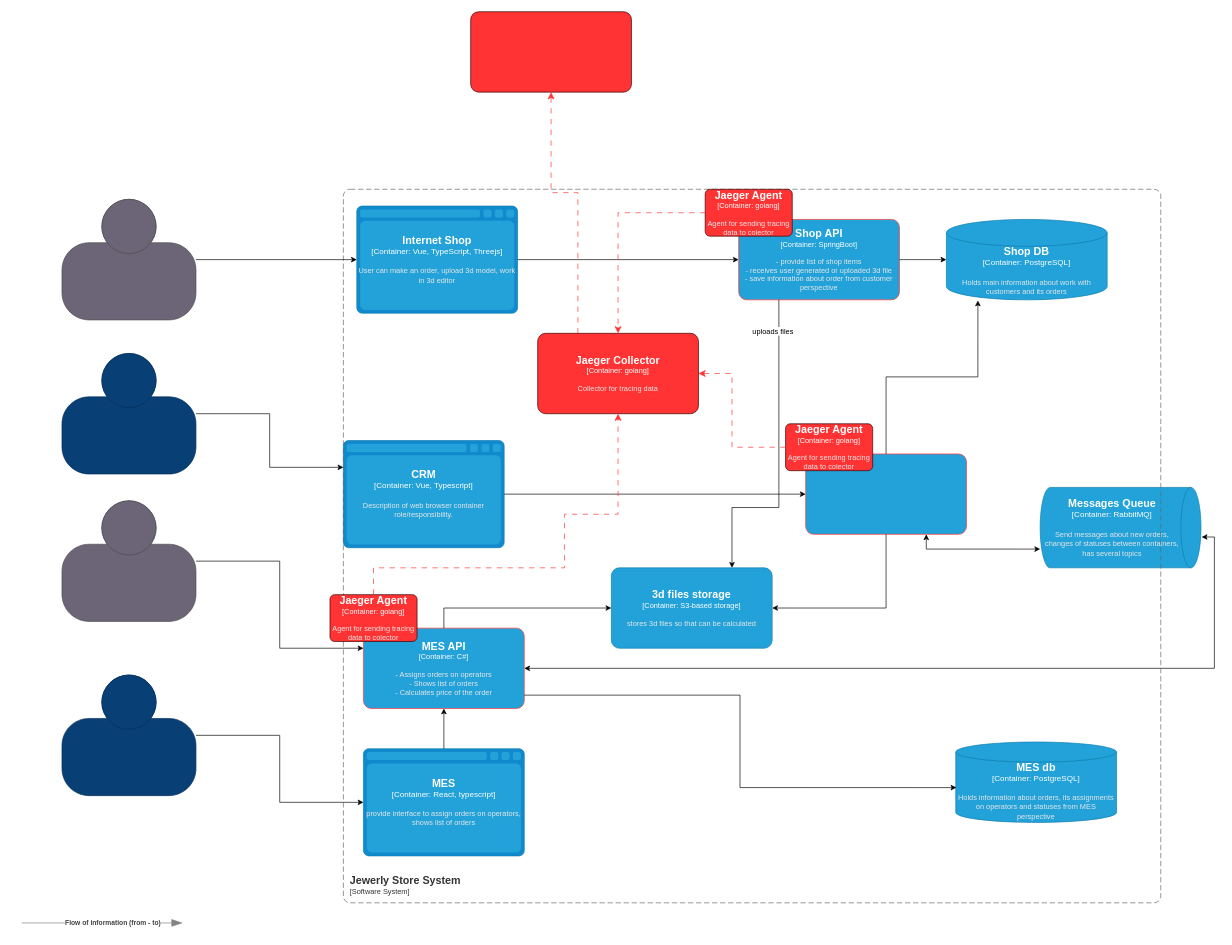
The diagram is 1232 pixels wide and 945 high, and some of its shapes have lost their labels. The centre of each missing label's shape, as x and y in pixels:
"API user [Person] Description of external person." goes at point 128,560.
"CRM API [Container: SpringBoot] Description of container role/responsibility." goes at point 885,493.
"Customer [Person] Description of external person." goes at point 128,259.
"Operator [Person] Takes order in work, manufactures jewerly" goes at point 128,735.
"Prometheus [Container: golang] Getting data from collector" goes at point 550,51.
"Seller [Person] Operates with order, confirms manufacturing for the user" goes at point 128,413.
